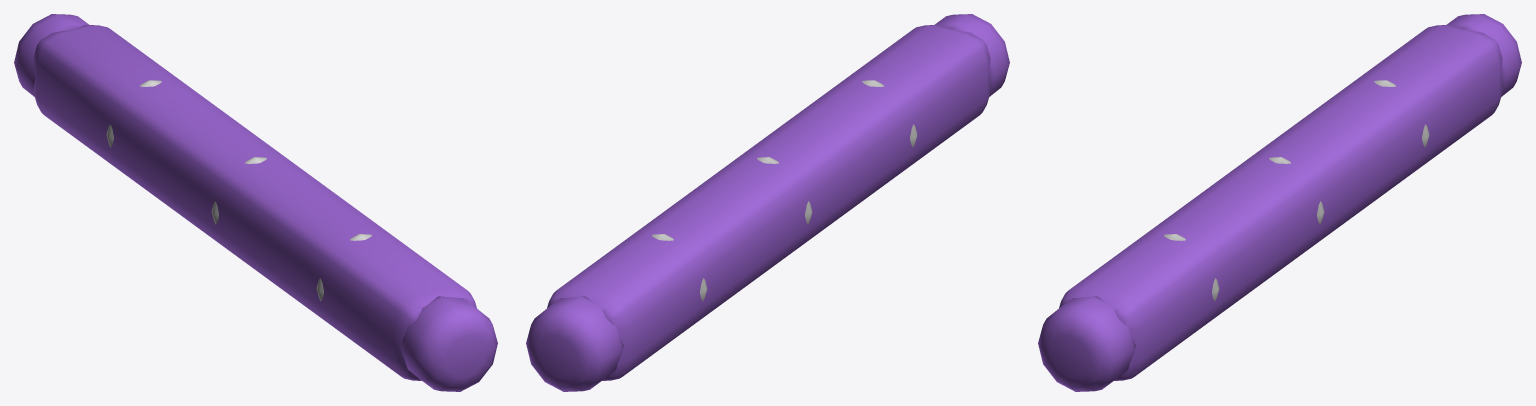
Rendered from padded_beam.glb.
The picture shows the model from 3 angles, left to right: view 1: azimuth 30°, elevation 25°; view 2: azimuth 150°, elevation 25°; view 3: azimuth 330°, elevation 25°; orthographic projection.
Visible parts, largest first — view 1: padded_beam; view 2: padded_beam; view 3: padded_beam.
Part boxes in pixels (x1,y1,x2,y2): padded_beam: (14,14,497,391); padded_beam: (526,14,1009,391); padded_beam: (1038,14,1521,391).
Size of the model in its own units: 0.43 by 0.43 by 3.6.
